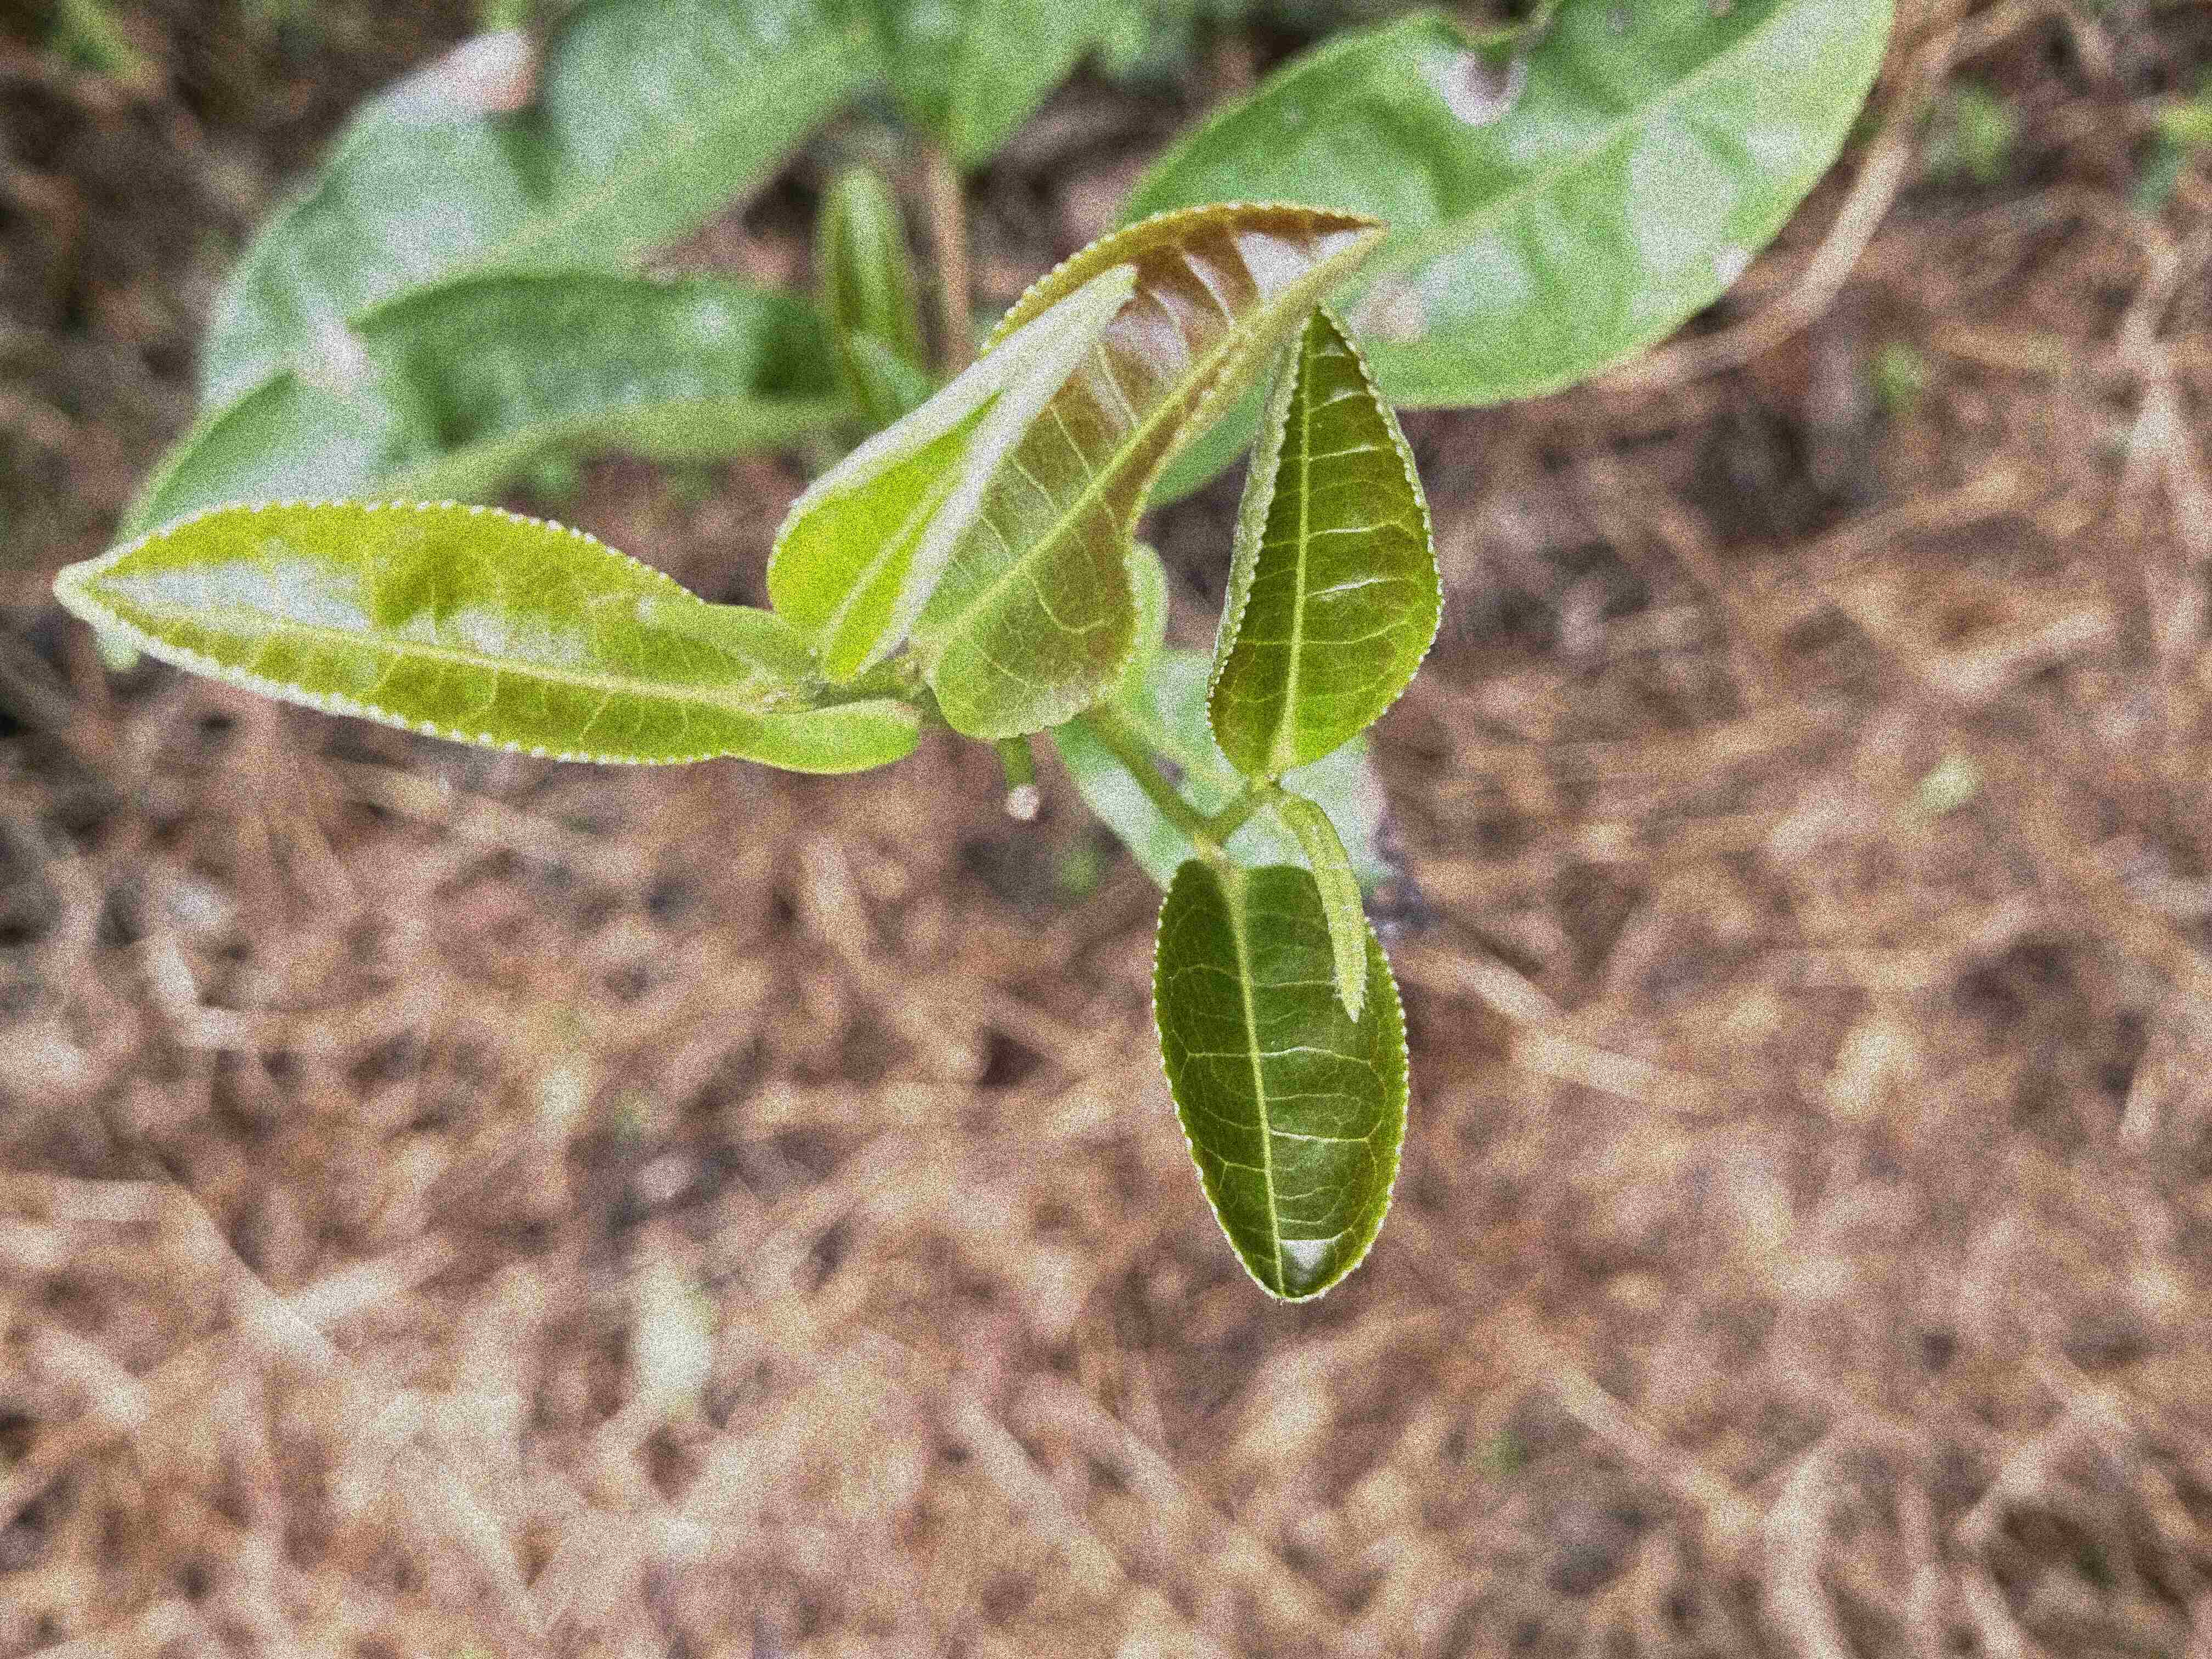healthy: (902, 204, 1388, 744), (47, 493, 775, 769), (1148, 857, 1413, 1305), (1205, 298, 1447, 779)
